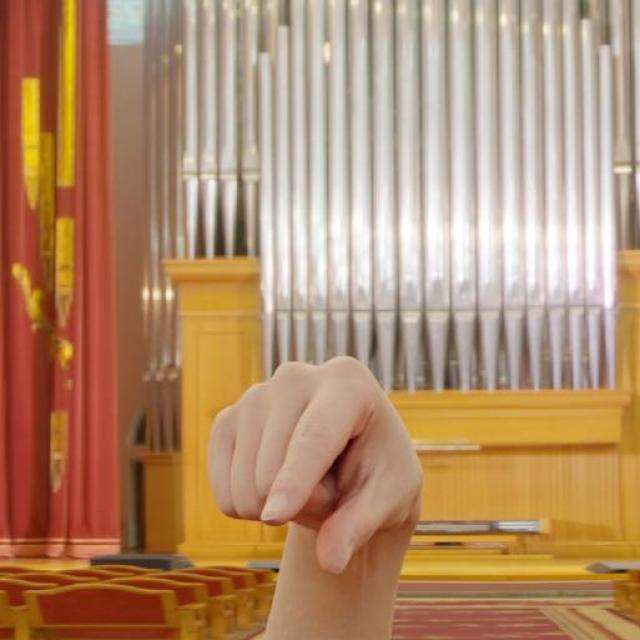Q: (206, 352, 428, 576)
